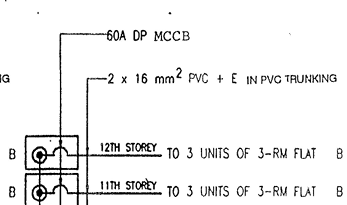Single Phase Tap-Off Unit: (21, 131, 80, 173), (20, 173, 81, 205)
